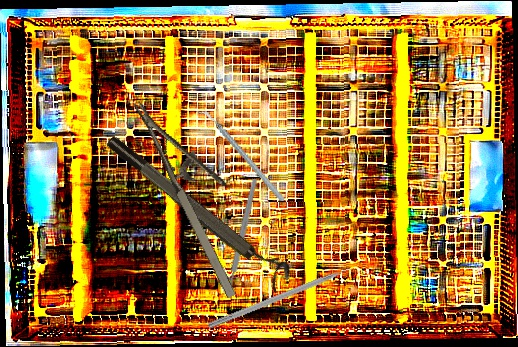Chopper: (206, 261, 366, 338), (196, 93, 286, 218)
Fixation Ring: (102, 124, 297, 294)
Needle Holder: (133, 82, 269, 302)
Scalpel Handle: (225, 178, 259, 291)
